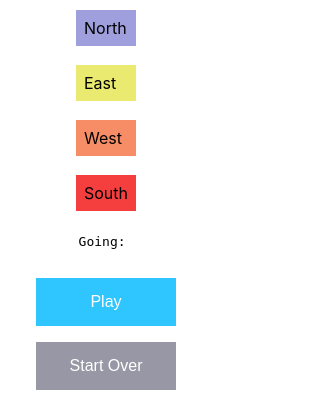
empties player inputs when player clicks on "Start Over"
The width and height of the screenshot is (320, 407).
Expected: the text with test id "player-directions" reads "Going:", [79, 234, 133, 249]
What coordinates should you click on to do the following:
click the text with test id "e"
I would click on:
 (106, 83)
Its box is [76, 65, 136, 101].
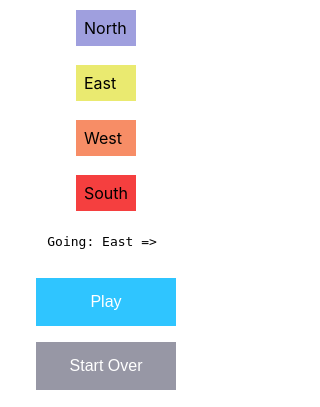
What coordinates should you click on to do the following:
click the text with test id "w"
I would click on:
 (106, 138)
Its box is [76, 120, 136, 156].
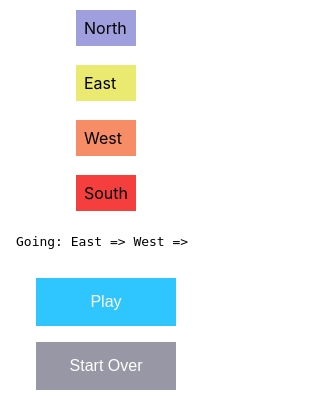
What coordinates should you click on to do the following:
click the button "Start Over"
I would click on:
 (106, 366)
Its box is [36, 342, 176, 390].
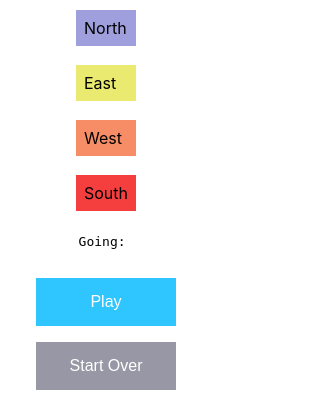
Expected: the text with test id "player-directions" reads "Going:", [79, 234, 133, 249]
